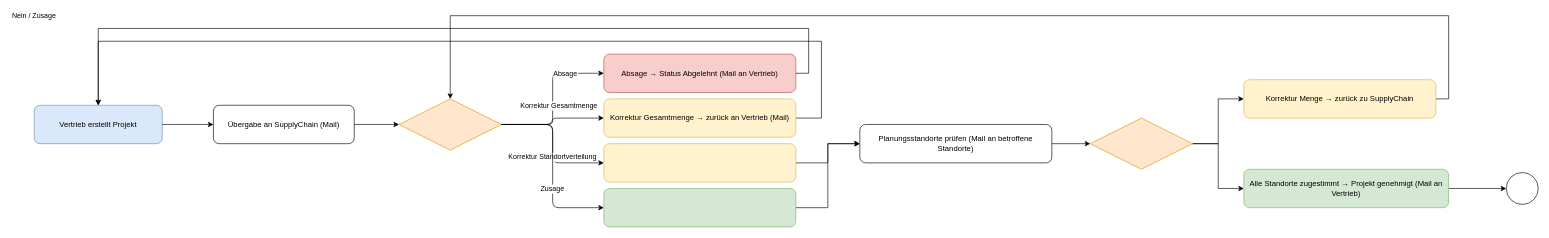
Some shapes in this 1549 by 238 pixel diagram are drawn without their labels. The shapes that lost their labels are listed below. From the top down, each one's box as (x1, y1, x2, y2) in pixels, then its label:
(398, 98, 501, 150): SupplyChain prüft Projekt
(1090, 117, 1193, 169): Standort: Korrektur Menge?
(603, 143, 796, 182): Korrektur Standortverteilung → Prüfung Standorte (Mail)
(603, 188, 796, 227): Zusage durch SupplyChain → Prüfung Standorte (Mail)
